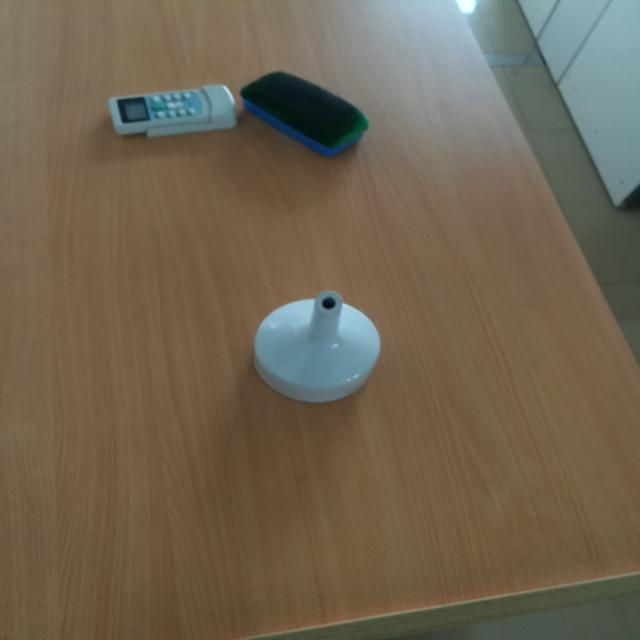Buchner_Funnel: (248, 254, 408, 435)
